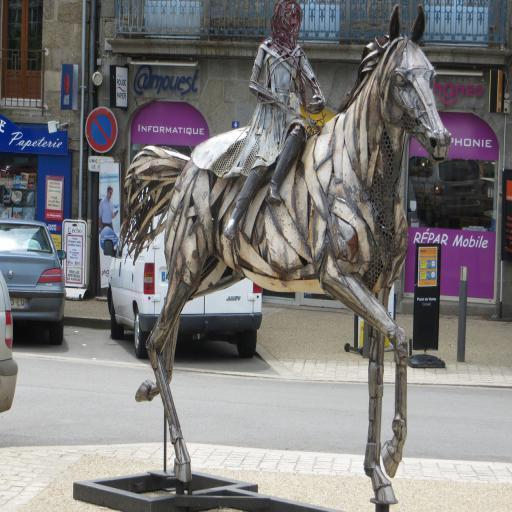horse: (116, 4, 453, 503)
